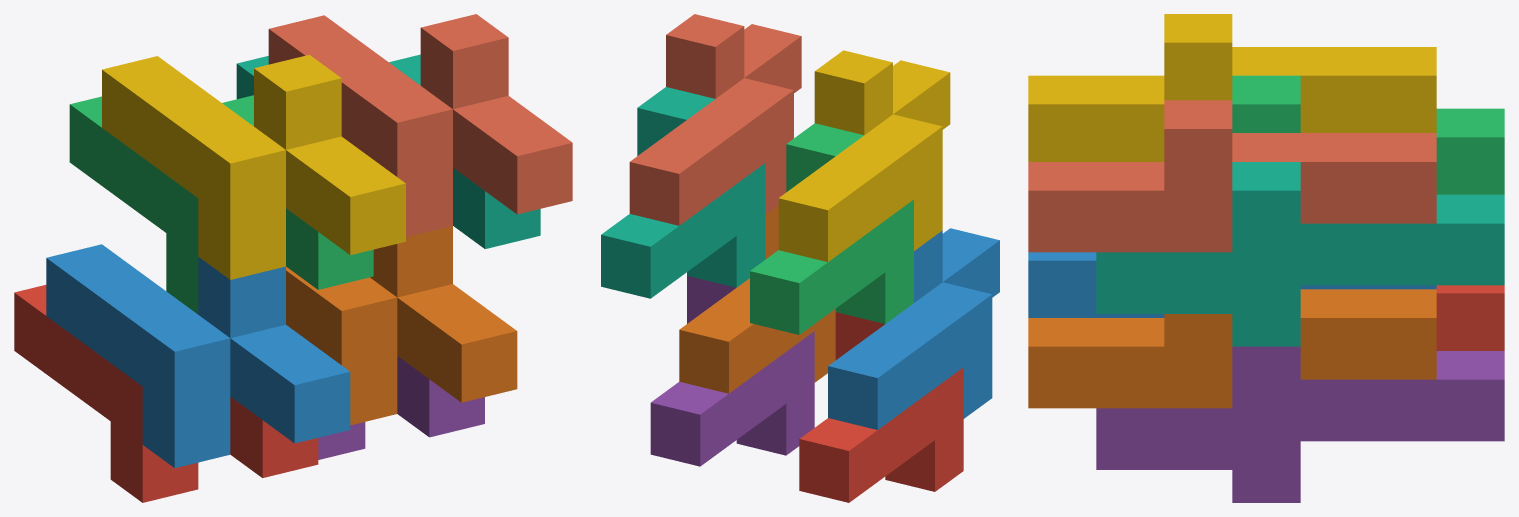
File: tiling.obj
3 views of the same model, side by side, from view 1: azimuth 30°, elevation 25°; view 2: azimuth 150°, elevation 25°; view 3: azimuth 270°, elevation 25° (orthographic). The views are drawn at different scales.
Parts seen in each view (by area): view 1: copy_1_domain_4, copy_1_domain_2, copy_1_domain_8, copy_1_domain_6, copy_1_domain_1, copy_1_domain_3, copy_1_domain_7, copy_1_domain_5; view 2: copy_1_domain_4, copy_1_domain_8, copy_1_domain_2, copy_1_domain_3, copy_1_domain_7, copy_1_domain_1, copy_1_domain_5, copy_1_domain_6; view 3: copy_1_domain_8, copy_1_domain_7, copy_1_domain_5, copy_1_domain_4, copy_1_domain_6, copy_1_domain_3, copy_1_domain_2, copy_1_domain_1.
Boxes of the visible parts, <box> form: copy_1_domain_4: <box>102,54,405,279</box>; copy_1_domain_2: <box>46,244,350,467</box>; copy_1_domain_8: <box>268,14,572,236</box>; copy_1_domain_6: <box>286,226,517,425</box>; copy_1_domain_1: <box>14,285,318,502</box>; copy_1_domain_3: <box>69,95,373,314</box>; copy_1_domain_7: <box>236,54,540,248</box>; copy_1_domain_5: <box>318,356,484,459</box>; copy_1_domain_4: <box>778,50,950,261</box>; copy_1_domain_8: <box>629,14,801,225</box>; copy_1_domain_2: <box>828,228,999,429</box>; copy_1_domain_3: <box>750,123,913,334</box>; copy_1_domain_7: <box>601,87,765,298</box>; copy_1_domain_1: <box>799,312,963,502</box>; copy_1_domain_5: <box>650,276,814,466</box>; copy_1_domain_6: <box>679,205,835,393</box>; copy_1_domain_8: <box>1028,100,1436,252</box>; copy_1_domain_7: <box>1096,162,1504,346</box>; copy_1_domain_5: <box>1096,346,1504,502</box>; copy_1_domain_4: <box>1028,14,1436,161</box>; copy_1_domain_6: <box>1028,289,1436,408</box>; copy_1_domain_3: <box>1232,75,1504,194</box>; copy_1_domain_2: <box>1028,252,1436,317</box>; copy_1_domain_1: <box>1436,285,1504,350</box>.
Size of the model in its own units: 6 by 7 by 7.
